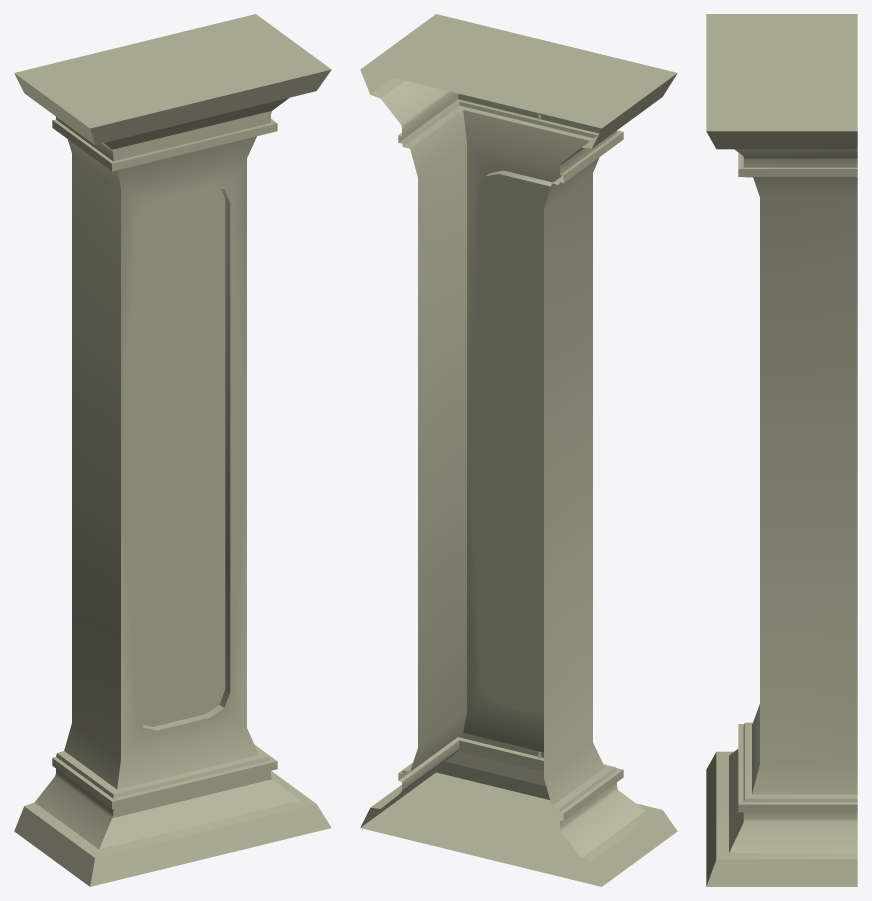
The model's file is SM_boss2Fpillar001.fbx.
3 renders of one model, left to right at view 1: azimuth 30°, elevation 25°; view 2: azimuth 150°, elevation 25°; view 3: azimuth 270°, elevation 25°, orthographic.
Visible parts, largest first — view 1: SM_boss2Fpillar001; view 2: SM_boss2Fpillar001; view 3: SM_boss2Fpillar001.
Part boxes in pixels (left/top/right/bottom): SM_boss2Fpillar001: left=14, top=14, right=331, bottom=886; SM_boss2Fpillar001: left=360, top=14, right=677, bottom=886; SM_boss2Fpillar001: left=706, top=14, right=857, bottom=886.
Bounding box in the file's own units: 167 × 500 × 90.82.
